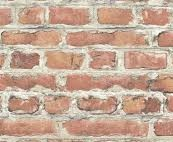brick: (65, 120, 146, 136), (68, 32, 148, 46), (1, 31, 61, 45), (124, 51, 167, 69), (1, 74, 54, 88), (1, 121, 54, 135), (50, 7, 91, 24), (67, 75, 107, 90), (46, 53, 81, 69), (99, 7, 133, 23), (111, 76, 147, 91), (124, 98, 160, 113), (11, 51, 39, 69), (7, 97, 37, 112), (88, 52, 115, 68), (78, 100, 115, 111), (17, 7, 42, 23), (141, 9, 169, 23), (44, 97, 69, 111), (157, 119, 173, 134), (1, 8, 13, 23), (158, 33, 173, 45)
